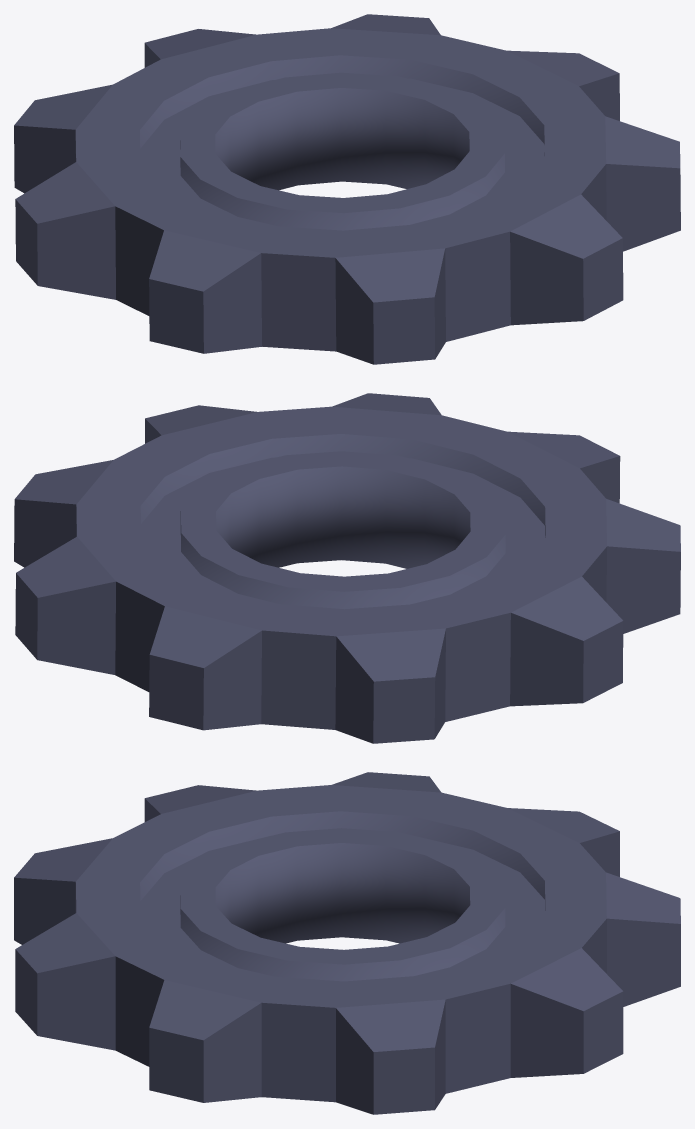
Rendered from SteamPunkCogA.fbx.
3 views of the same model, one above another, from view 1: azimuth 30°, elevation 25°; view 2: azimuth 150°, elevation 25°; view 3: azimuth 270°, elevation 25° (orthographic).
Visible parts, largest first — view 1: SteamPunkCogA; view 2: SteamPunkCogA; view 3: SteamPunkCogA.
Part boxes in pixels (box(x1,y1,x2,y2)): SteamPunkCogA: box(14, 14, 680, 364); SteamPunkCogA: box(14, 393, 680, 743); SteamPunkCogA: box(14, 772, 680, 1114).
Bounding box in the file's own units: 72.06 × 11.58 × 71.01.
